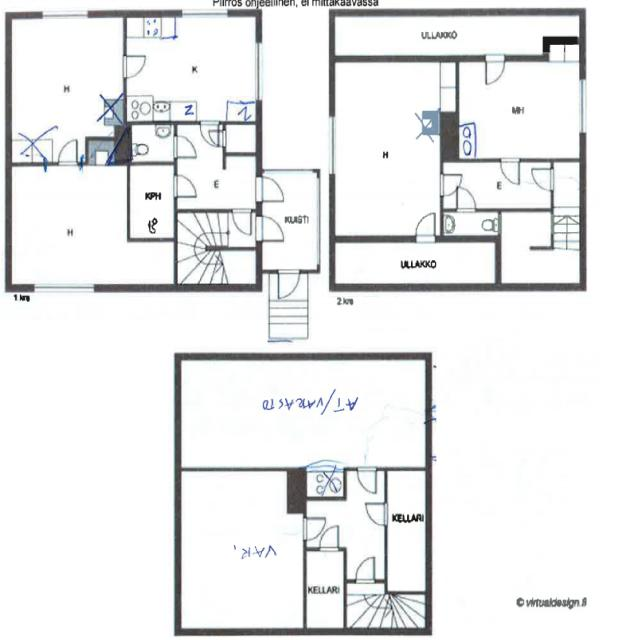door: (426, 413, 470, 458), (426, 369, 470, 413), (256, 217, 283, 241), (278, 269, 300, 298), (255, 178, 282, 201), (485, 56, 505, 85), (199, 120, 219, 148), (303, 518, 326, 541), (440, 174, 463, 197), (416, 214, 434, 243), (356, 468, 376, 494), (123, 56, 146, 78), (366, 504, 388, 526), (174, 175, 196, 197), (320, 526, 338, 552), (232, 208, 250, 234), (174, 136, 195, 158), (356, 559, 374, 584), (457, 188, 475, 213), (532, 170, 553, 191), (501, 159, 519, 183), (208, 130, 227, 146)
